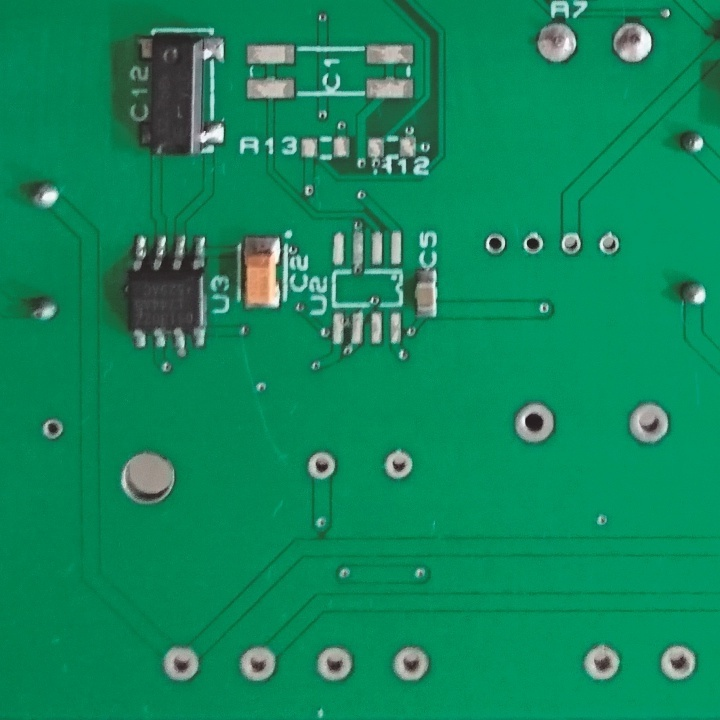F: (627, 395, 672, 447), (610, 21, 659, 67), (534, 19, 580, 66), (513, 397, 557, 446), (388, 641, 437, 684), (658, 639, 699, 687), (581, 639, 624, 683), (316, 642, 356, 687), (237, 641, 276, 687), (161, 642, 201, 683), (382, 446, 416, 481), (307, 448, 338, 481), (39, 415, 64, 446), (598, 229, 623, 260), (482, 229, 507, 258), (521, 229, 546, 257), (559, 232, 585, 258)
